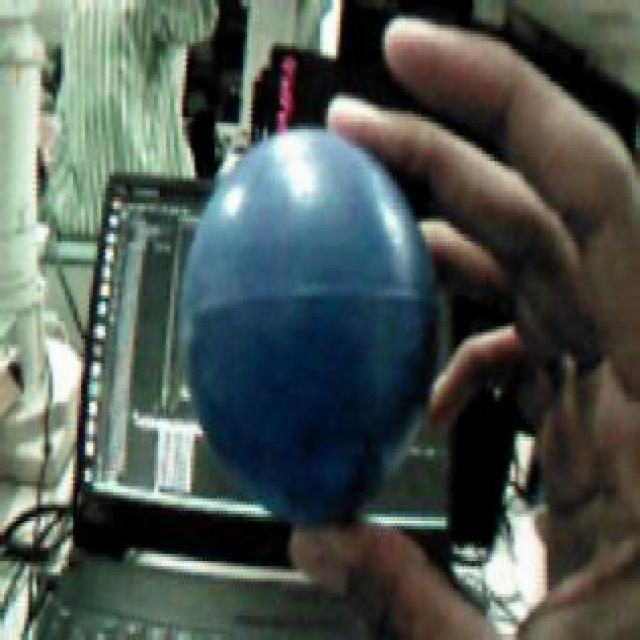BallPurple: (182, 126, 432, 524)
